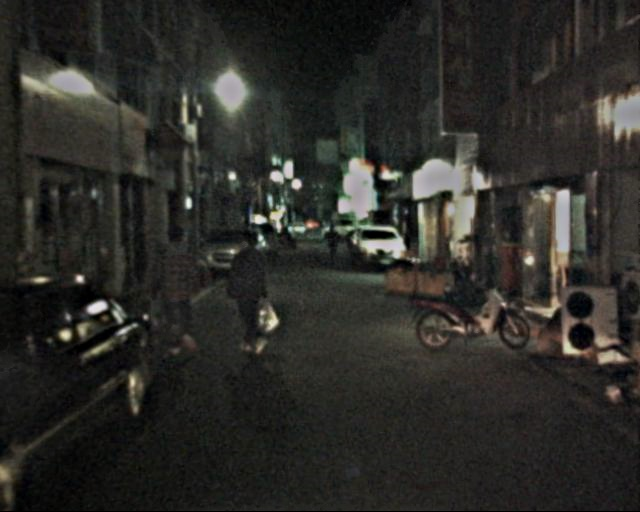person: (149, 223, 204, 358), (225, 233, 274, 355), (324, 223, 341, 264)
